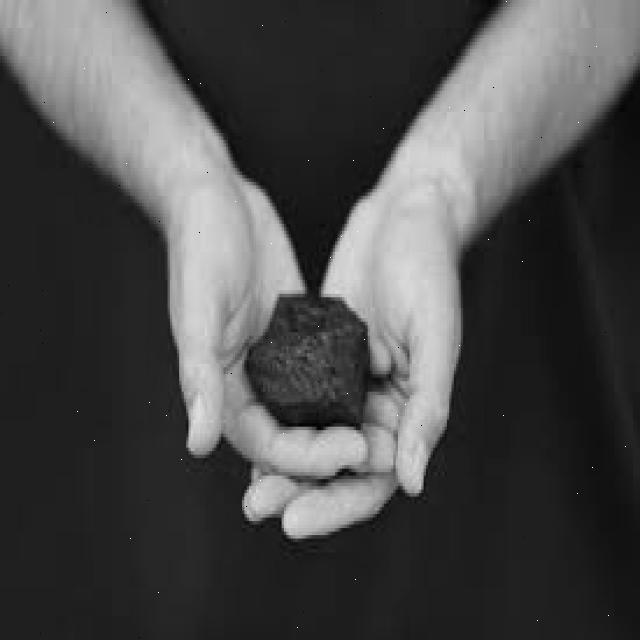Sedimentary: (251, 283, 375, 434)
